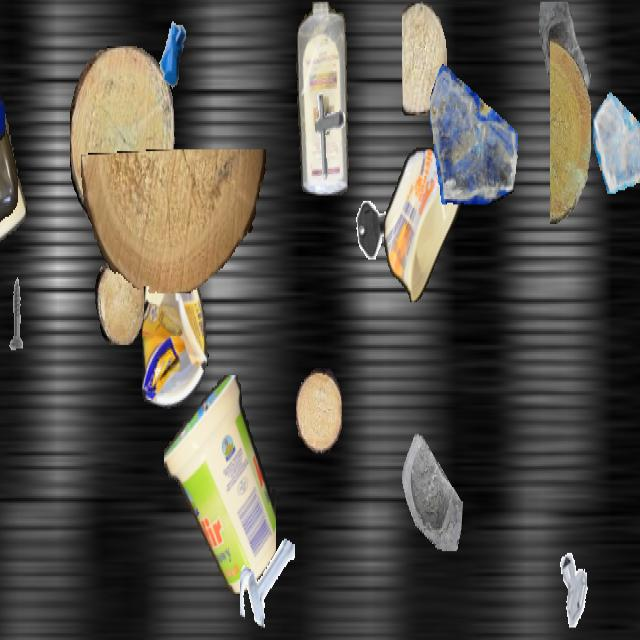glass: (430, 52, 518, 208), (389, 418, 463, 549), (535, 1, 599, 116), (593, 84, 640, 194)
metal: (145, 2, 199, 98), (240, 530, 294, 626), (300, 87, 354, 183), (554, 548, 598, 626), (354, 190, 396, 265), (0, 276, 37, 350)
plastic: (164, 375, 276, 596), (384, 147, 462, 300), (142, 235, 210, 409), (294, 2, 352, 194), (0, 2, 30, 250), (0, 83, 18, 364), (0, 64, 4, 220)
wood: (81, 150, 267, 292), (70, 46, 174, 231), (550, 39, 590, 224), (402, 1, 446, 116), (95, 258, 143, 343), (296, 368, 342, 453)
